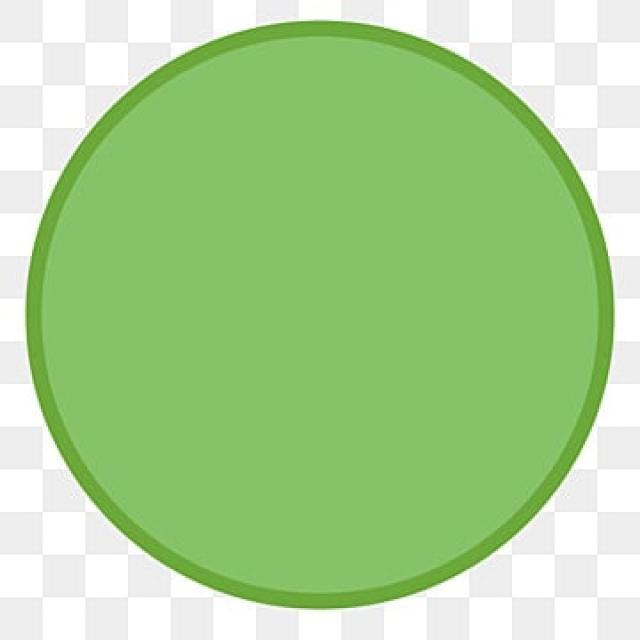Circle: (23, 20, 617, 612)
